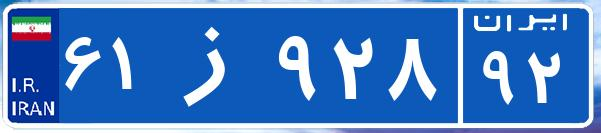1: (110, 28, 158, 105)
2: (330, 28, 385, 110), (525, 38, 570, 115)
6: (57, 26, 110, 107)
8: (385, 28, 445, 110)
9: (273, 28, 330, 110), (475, 38, 525, 113)
ز: (158, 15, 273, 115)
